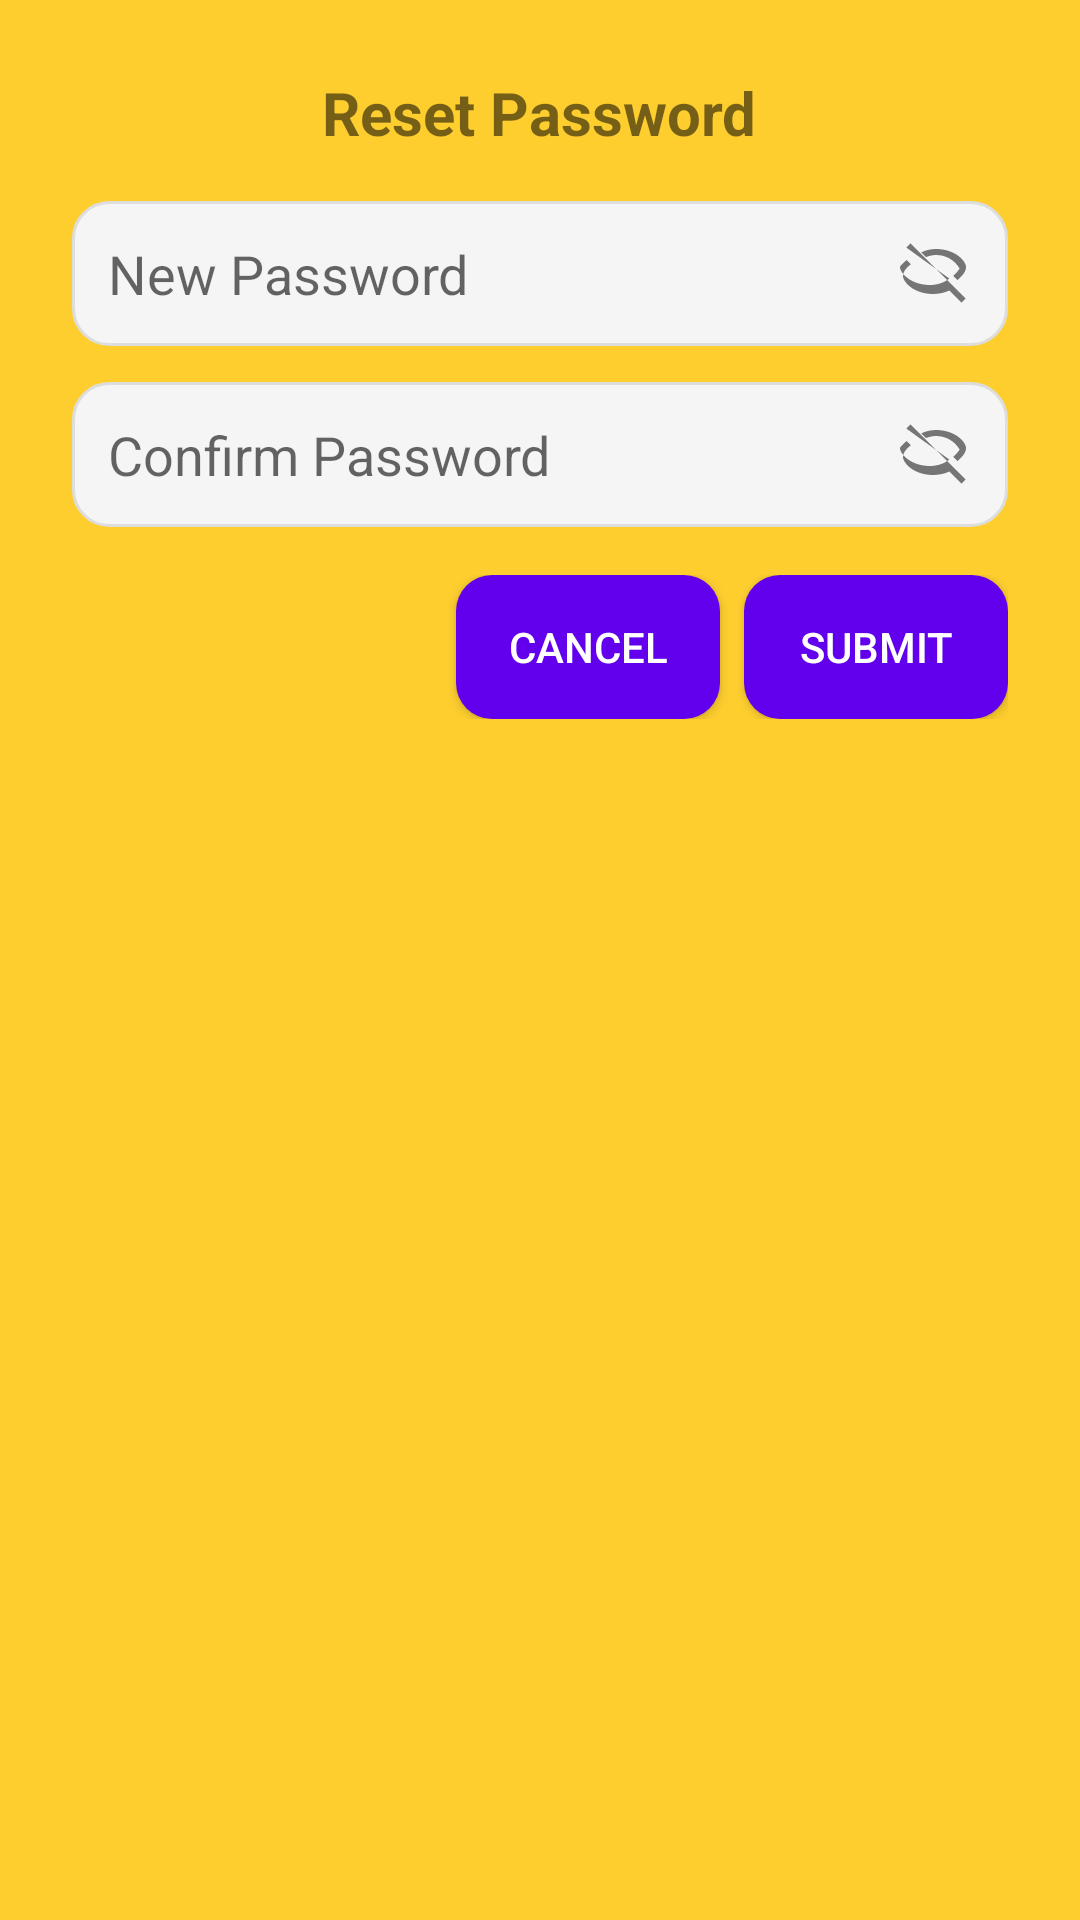

Locate icon controls on the screen. Image size 1080 × 1920, boxes as (x1, y1, x2, y2).
Toggle Password Visibility: (900, 243, 966, 303), (900, 424, 966, 484)
